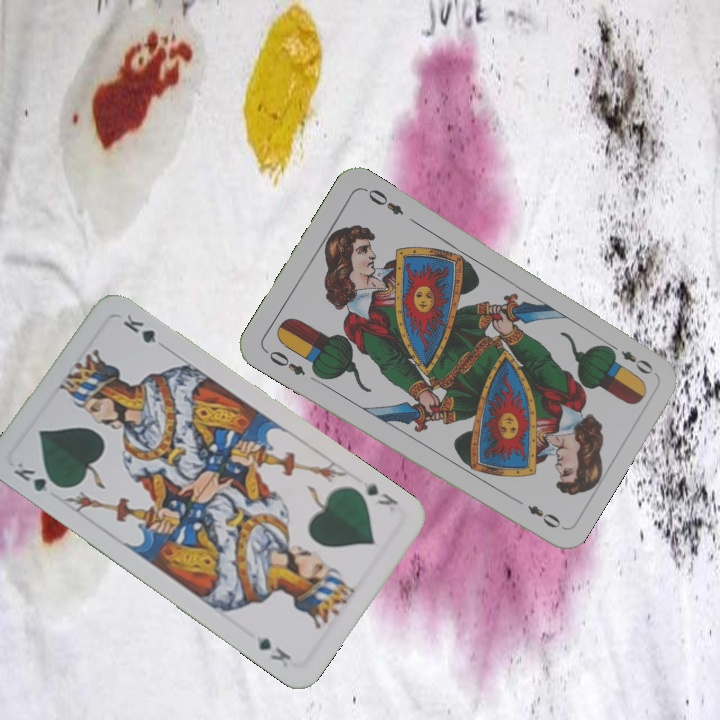EO: (603, 339, 656, 378), (260, 346, 308, 378)
GK: (9, 458, 65, 494), (357, 477, 401, 509)
